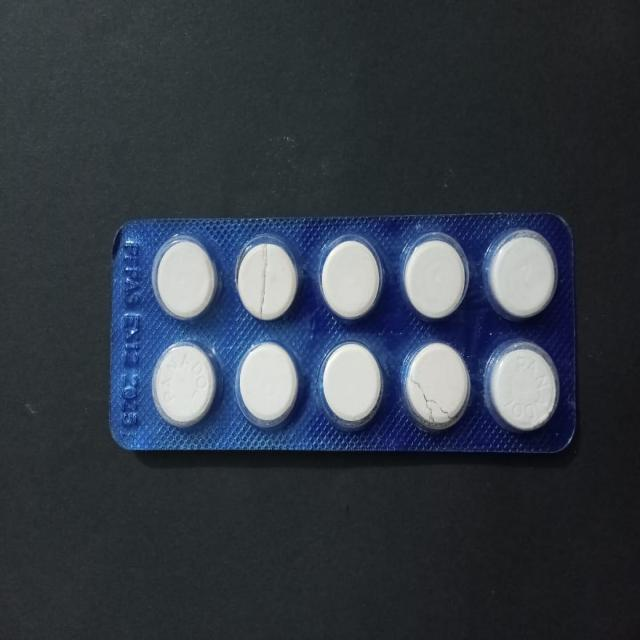defect: (400, 338, 474, 434), (233, 232, 302, 325)
